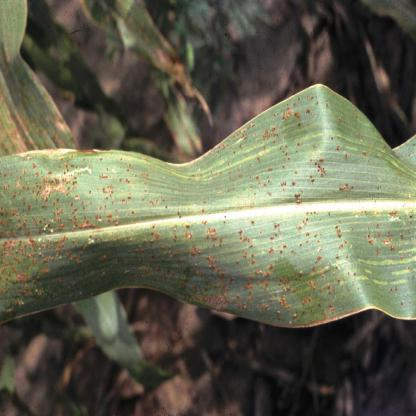Corn rust leaf: (0, 78, 416, 337)
